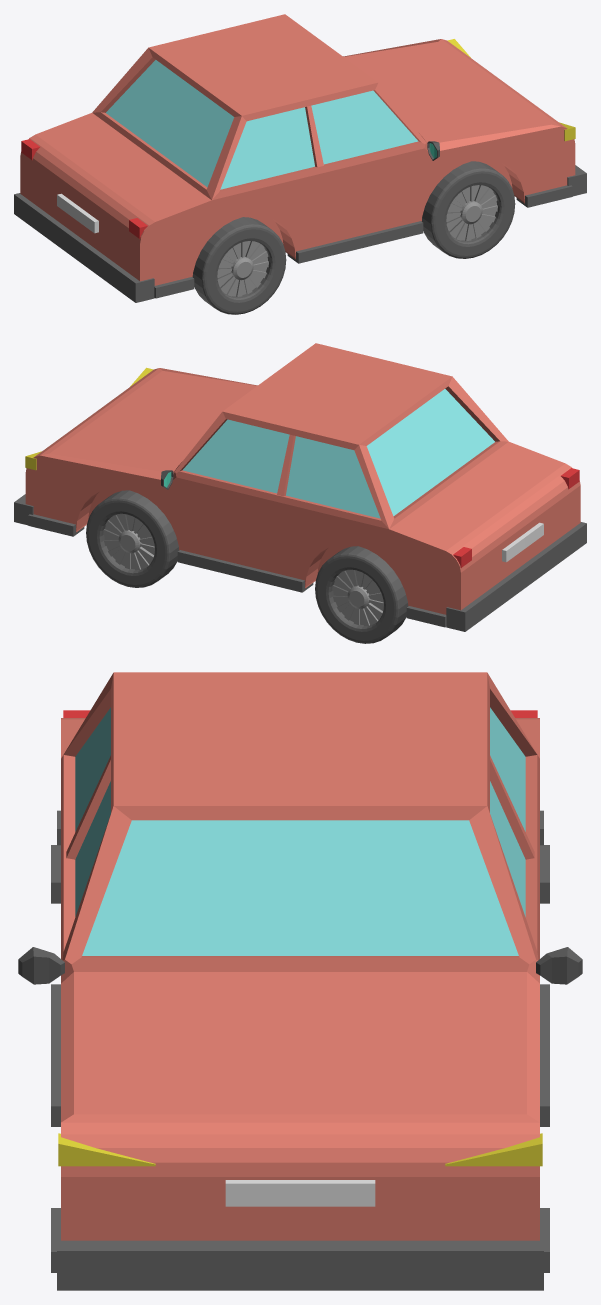
Rendered from redcar.fbx.
3 renders of one model, top to bottom at view 1: azimuth 30°, elevation 25°; view 2: azimuth 150°, elevation 25°; view 3: azimuth 270°, elevation 25°, orthographic. The views are drawn at different scales.
Parts seen in each view (by area): view 1: redcarmain, redcarbackleftwhell, redcarfrontleftwhell; view 2: redcarmain, redcarbackrightwhell, redcarfrontrightwhell; view 3: redcarmain.
Part boxes in pixels (box(x1,y1,x2,y2)): redcarmain: box(14, 14, 586, 302); redcarbackleftwhell: box(192, 217, 286, 314); redcarfrontleftwhell: box(421, 161, 515, 258); redcarmain: box(14, 343, 586, 631); redcarbackrightwhell: box(315, 546, 408, 643); redcarfrontrightwhell: box(86, 490, 179, 587); redcarmain: box(18, 672, 582, 1290).
Size of the model in its own units: 180 by 71.22 by 97.52.
